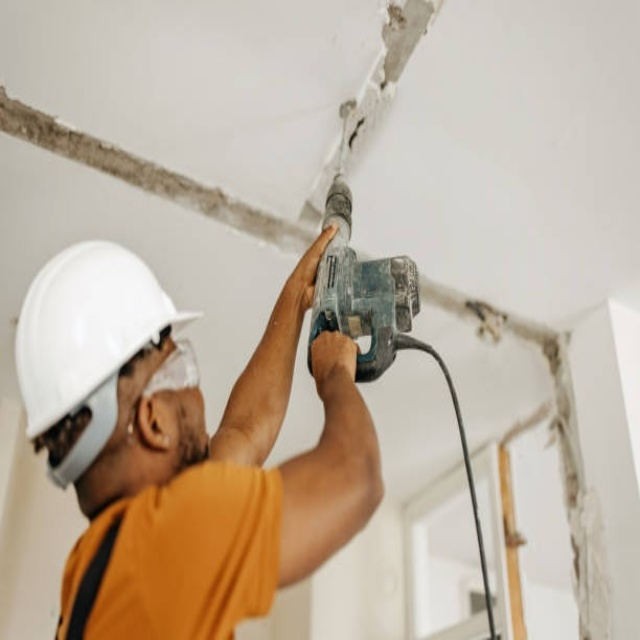Gafas: (125, 336, 203, 438)
Sin_guantes: (309, 328, 359, 395)
